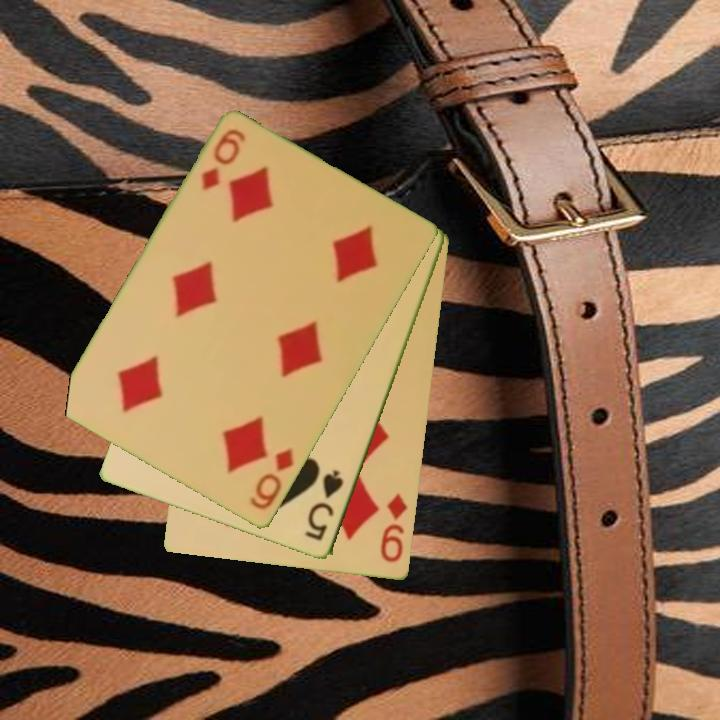5s: (302, 467, 347, 545)
6d: (197, 125, 250, 195), (246, 445, 297, 513)
9d: (377, 490, 411, 566)
